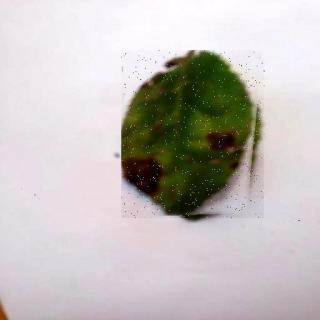Algal Leaf: (123, 52, 266, 220)
